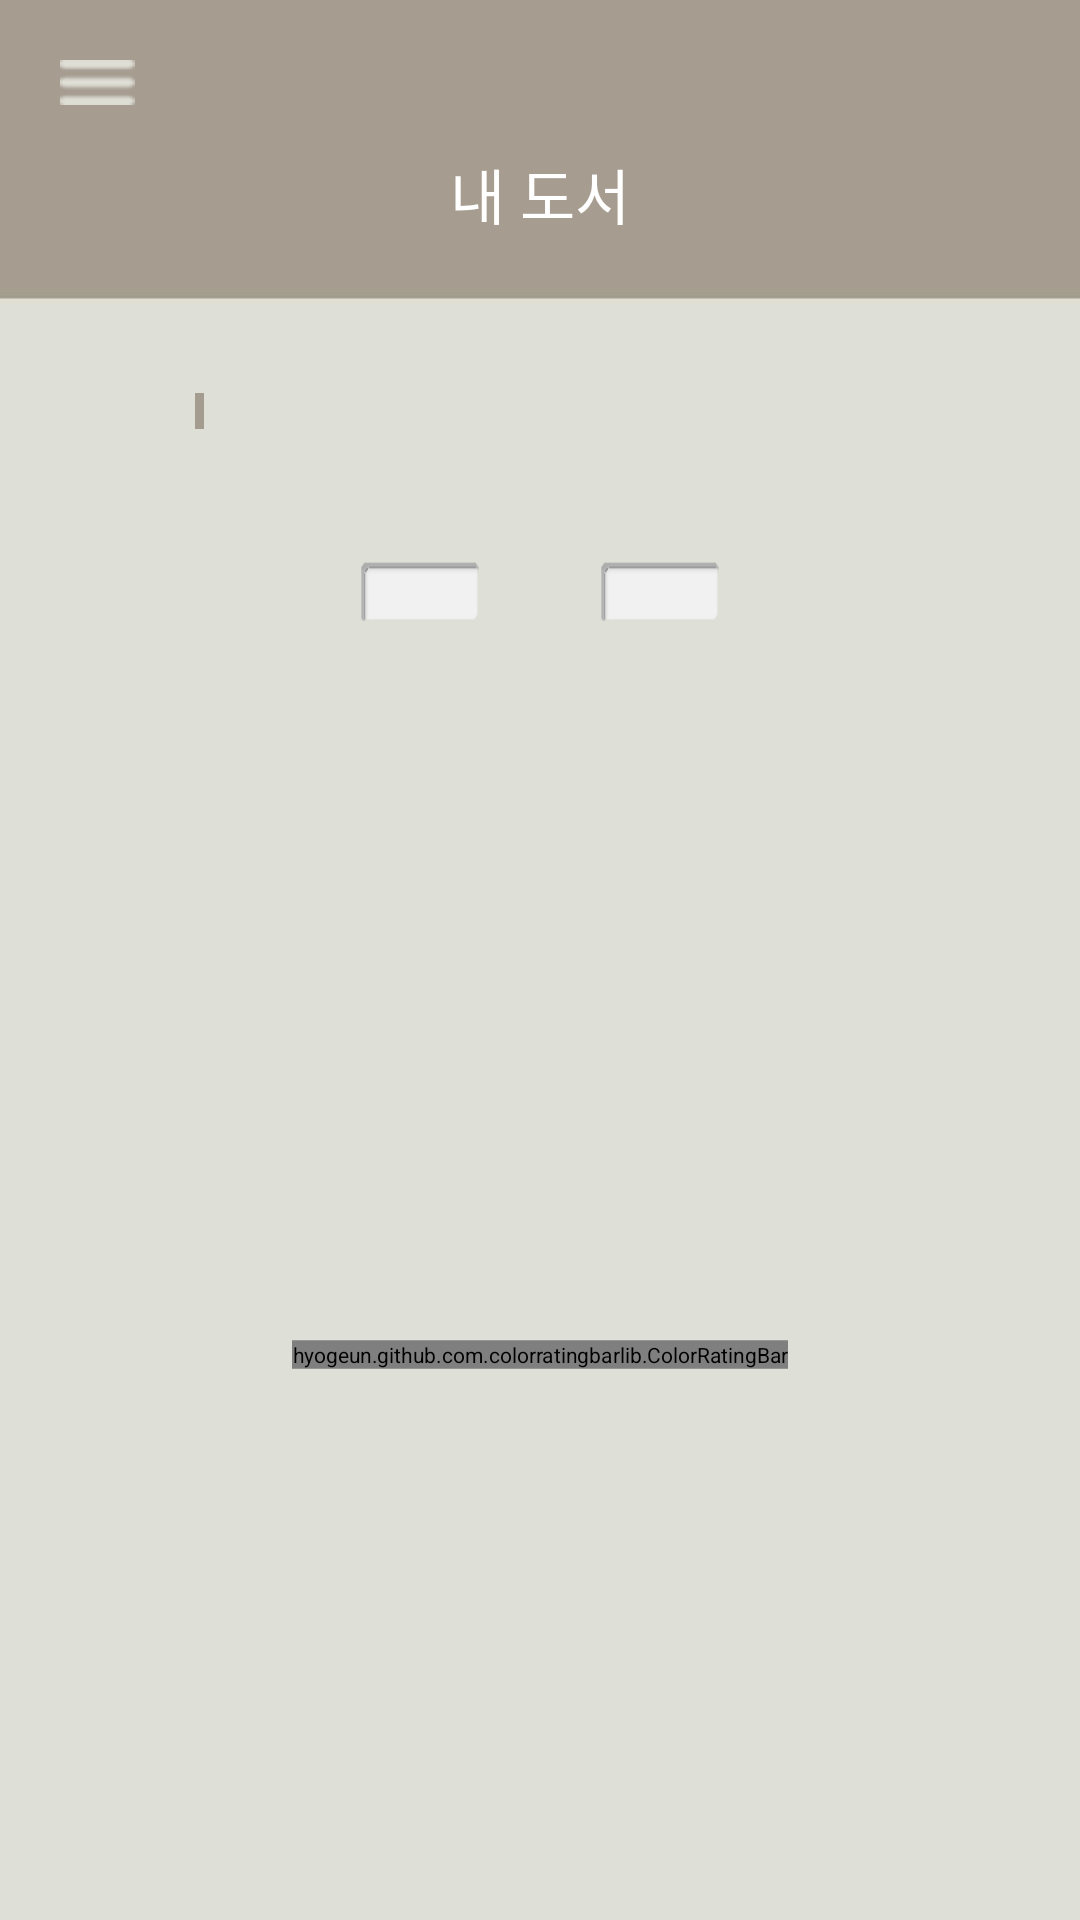

Icons on this 1080w x 1920h Android screen, each with its box as (x1,y1,x2,y2):
menu: (60,60,135,105)
